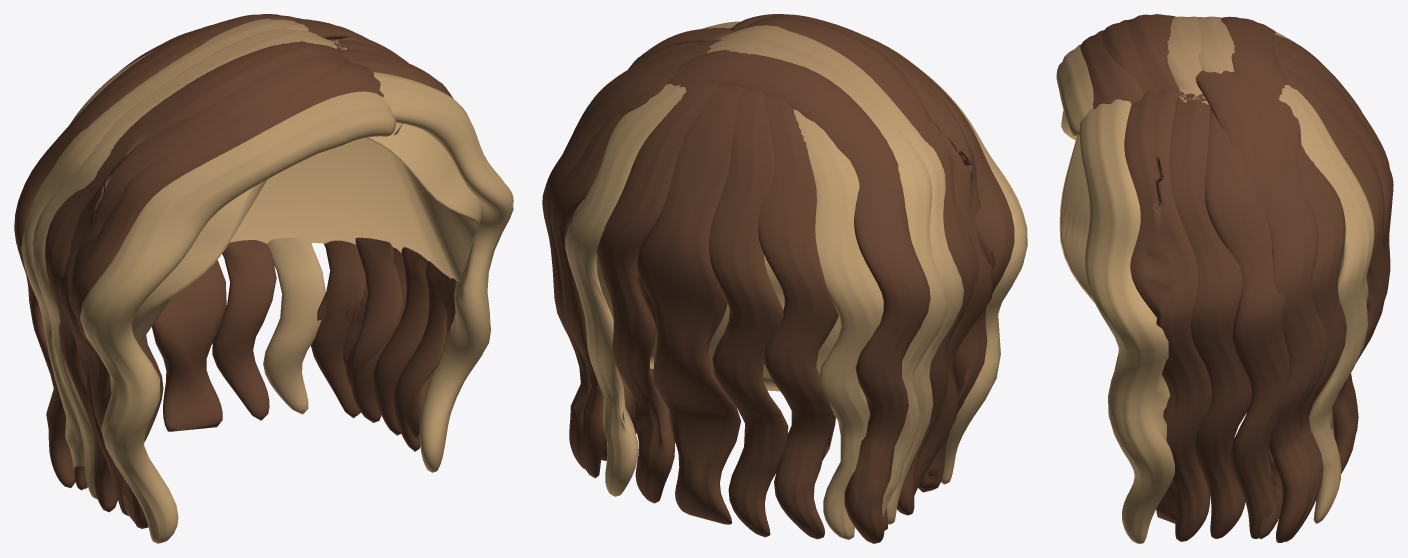
File: Highlights-6e13555985ca251-hair.glb
3 views of the same model, side by side, from view 1: azimuth 30°, elevation 25°; view 2: azimuth 150°, elevation 25°; view 3: azimuth 270°, elevation 25° (orthographic). The views are drawn at different scales.
Visible parts, largest first — view 1: 226 hair / Hair / sculpted 0.002, 226 hair / Hair / sculpted 1.004, 226 hair / Hair / sculpted 2.002, 226 hair / Hair / sculpted 1.003; view 2: 226 hair / Hair / sculpted 0.002, 226 hair / Hair / sculpted 2.002, 226 hair / Hair / sculpted 1.004, 226 hair / Hair / sculpted 1.003; view 3: 226 hair / Hair / sculpted 1.004, 226 hair / Hair / sculpted 2.002, 226 hair / Hair / sculpted 0.002, 226 hair / Hair / sculpted 1.003.
Boxes of the visible parts, x1,y1,x2,y2 form: 226 hair / Hair / sculpted 0.002: (14, 14, 428, 543); 226 hair / Hair / sculpted 1.004: (32, 20, 513, 528); 226 hair / Hair / sculpted 2.002: (21, 18, 485, 515); 226 hair / Hair / sculpted 1.003: (131, 123, 483, 344); 226 hair / Hair / sculpted 0.002: (565, 17, 1027, 543); 226 hair / Hair / sculpted 2.002: (544, 14, 994, 539); 226 hair / Hair / sculpted 1.004: (542, 14, 1014, 539); 226 hair / Hair / sculpted 1.003: (572, 199, 840, 391); 226 hair / Hair / sculpted 1.004: (1079, 16, 1386, 543); 226 hair / Hair / sculpted 2.002: (1101, 16, 1393, 542); 226 hair / Hair / sculpted 0.002: (1056, 14, 1389, 538); 226 hair / Hair / sculpted 1.003: (1059, 111, 1368, 304).
Size of the model in its own units: 1.11 by 1.11 by 0.768.
